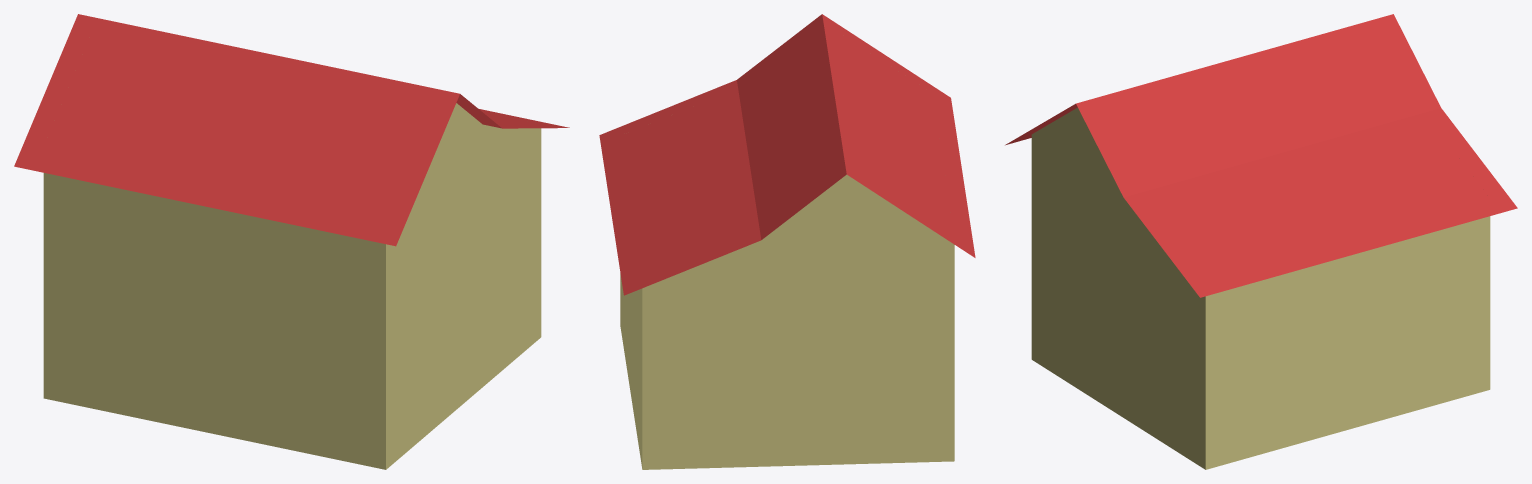
3 renders of one model, left to right at view 1: azimuth 30°, elevation 25°; view 2: azimuth 150°, elevation 25°; view 3: azimuth 270°, elevation 25°, orthographic. The views are drawn at different scales.
Size of the model in its own units: 12.73 by 12.93 by 8.31.
